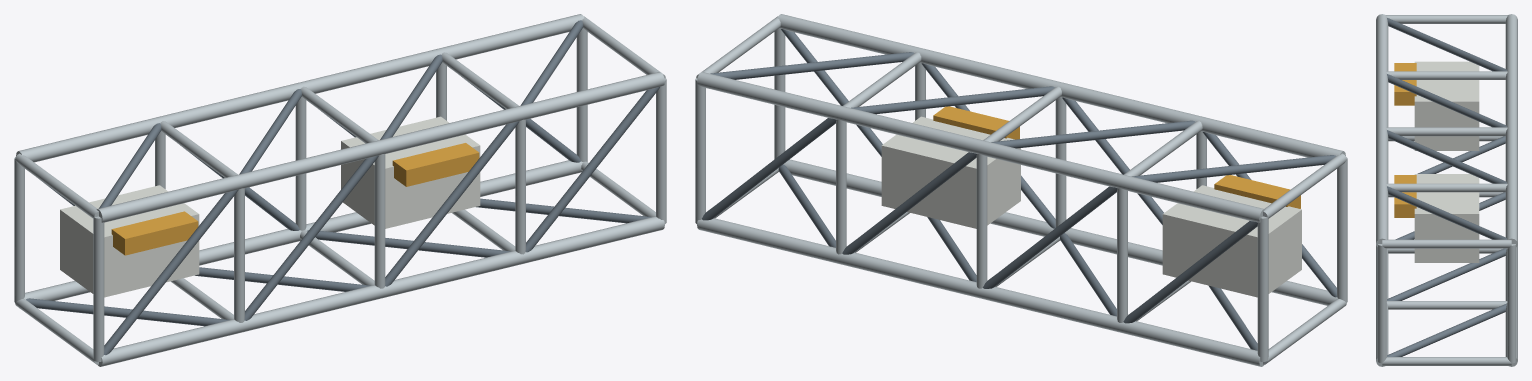
The model's file is iss_truss.s3.glb.
3 views of the same model, side by side, from view 1: azimuth 30°, elevation 25°; view 2: azimuth 150°, elevation 25°; view 3: azimuth 270°, elevation 25° (orthographic). The views are drawn at different scales.
Parts seen in each view (by area): view 1: iss_truss.s3.mesh_Satin_aluminum, iss_truss.s3.mesh_Machined_steel, iss_truss.s3.mesh_Pale_thermal_blanket, iss_truss.s3.mesh_Gold_thermal_insulation; view 2: iss_truss.s3.mesh_Satin_aluminum, iss_truss.s3.mesh_Machined_steel, iss_truss.s3.mesh_Pale_thermal_blanket, iss_truss.s3.mesh_Gold_thermal_insulation; view 3: iss_truss.s3.mesh_Satin_aluminum, iss_truss.s3.mesh_Pale_thermal_blanket, iss_truss.s3.mesh_Machined_steel, iss_truss.s3.mesh_Gold_thermal_insulation.
Part boxes in pixels (x1=…): iss_truss.s3.mesh_Satin_aluminum: x1=14, y1=14, x2=666, y2=366; iss_truss.s3.mesh_Machined_steel: x1=26, y1=20, x2=659, y2=355; iss_truss.s3.mesh_Pale_thermal_blanket: x1=60, y1=116, x2=480, y2=297; iss_truss.s3.mesh_Gold_thermal_insulation: x1=111, y1=143, x2=479, y2=255; iss_truss.s3.mesh_Satin_aluminum: x1=695, y1=14, x2=1347, y2=366; iss_truss.s3.mesh_Machined_steel: x1=702, y1=29, x2=1337, y2=350; iss_truss.s3.mesh_Pale_thermal_blanket: x1=881, y1=116, x2=1301, y2=297; iss_truss.s3.mesh_Gold_thermal_insulation: x1=933, y1=106, x2=1300, y2=208; iss_truss.s3.mesh_Satin_aluminum: x1=1376, y1=14, x2=1517, y2=366; iss_truss.s3.mesh_Pale_thermal_blanket: x1=1414, y1=61, x2=1479, y2=262; iss_truss.s3.mesh_Machined_steel: x1=1387, y1=18, x2=1506, y2=356; iss_truss.s3.mesh_Gold_thermal_insulation: x1=1394, y1=63, x2=1416, y2=217.
Size of the model in its own units: 9.76 by 2.56 by 2.56.
